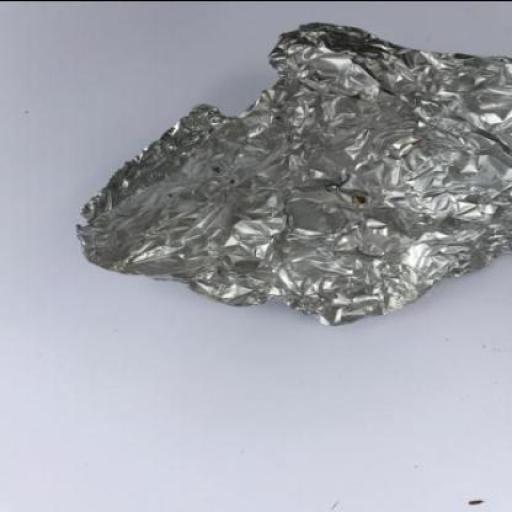metal: (72, 22, 510, 328)
